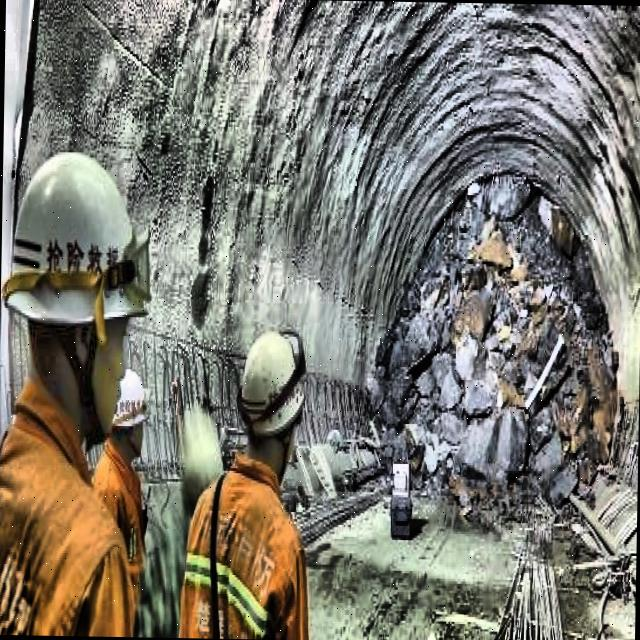helmet: (16, 130, 151, 393), (237, 324, 312, 441), (112, 366, 148, 459)
